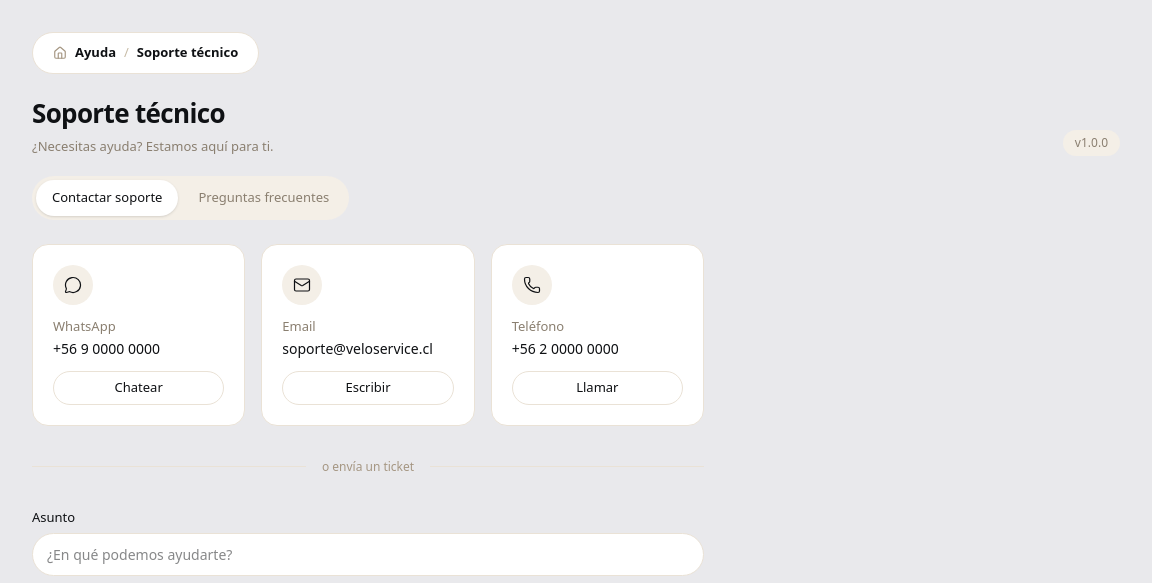
Test: SoportePage › switching to FAQ tab shows FAQ content
The width and height of the screenshot is (1152, 583).
Click the tab "Preguntas frecuentes" at coordinates (264, 198), box [182,180,345,216]
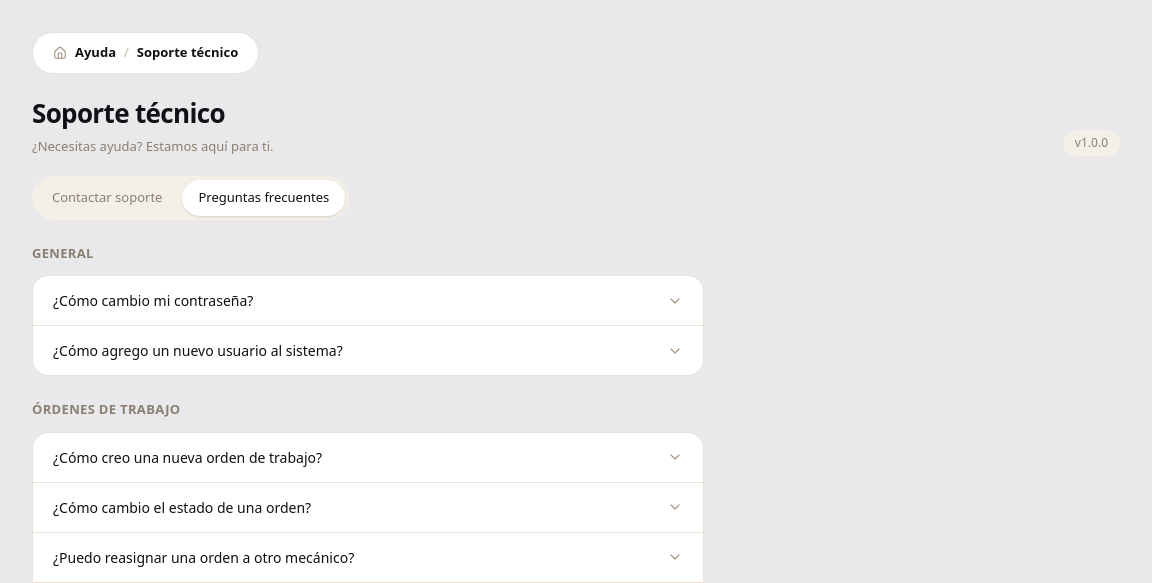
Now the heading "General" is shown, box [32,244,94,262]
